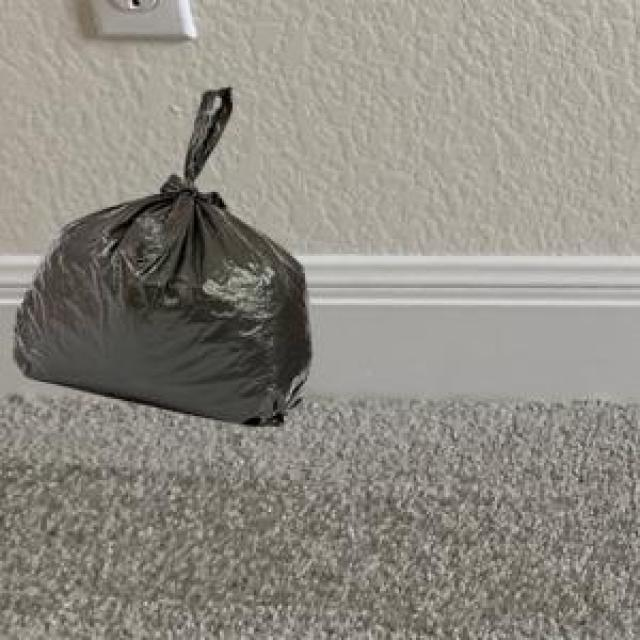miscellaneous trash: (11, 83, 307, 422)
